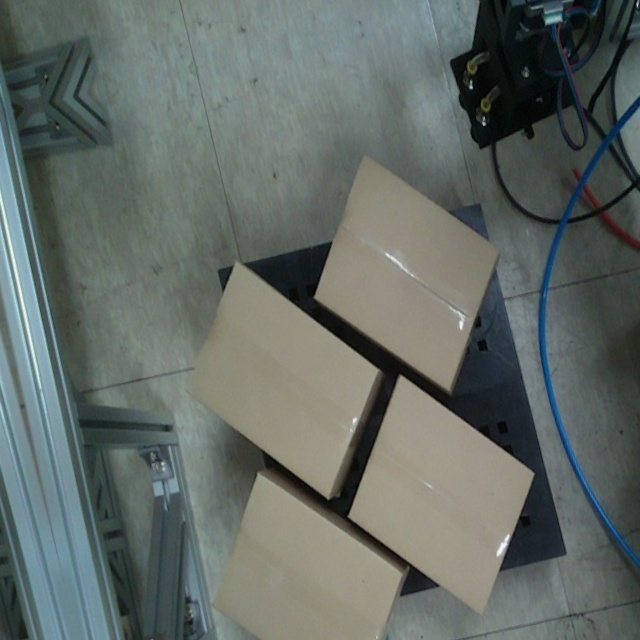box: (183, 258, 380, 500), (346, 371, 535, 616), (313, 153, 503, 391), (208, 479, 405, 640)
